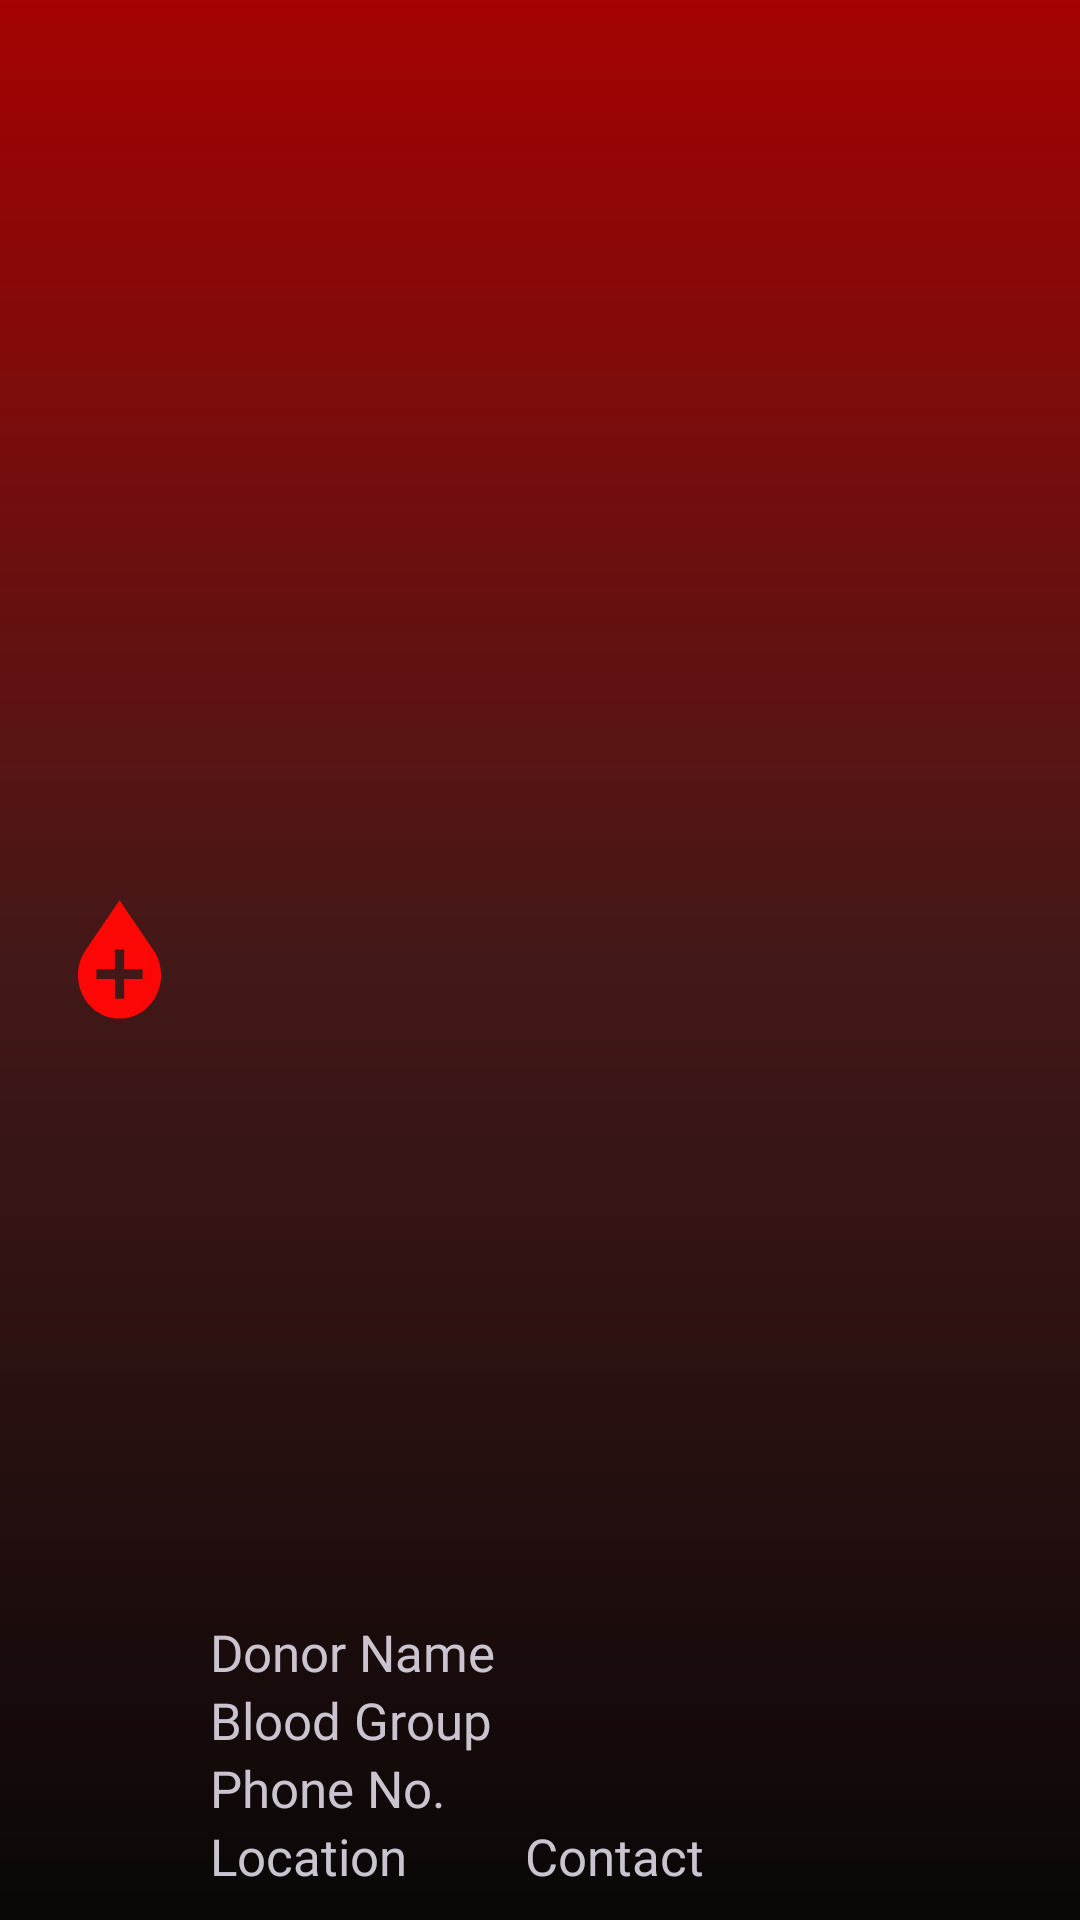

Point at icon controls on the screen. Image size 1080 x 1920, points as [x,y].
blood drop: [119,959]
